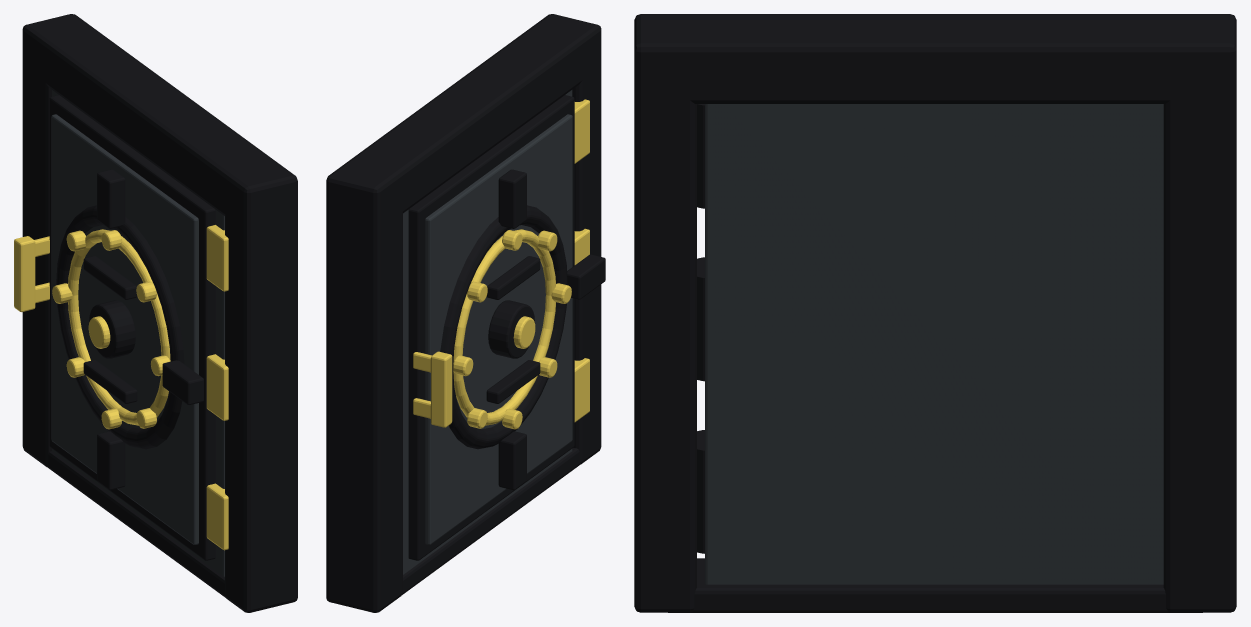
File: VaultDoor2.fbx
3 renders of one model, left to right at view 1: azimuth 30°, elevation 25°; view 2: azimuth 150°, elevation 25°; view 3: azimuth 270°, elevation 25°, orthographic. The views are drawn at different scales.
Parts seen in each view (by area): view 1: VaultDoor_Hinge_Plate_00, VaultDoor_Frame_Left, VaultDoor_Frame_Top, VaultDoor_Frame_Right, VaultDoor_Threshold; view 2: VaultDoor_Hinge_Plate_00, VaultDoor_Frame_Right, VaultDoor_Frame_Top, VaultDoor_Frame_Left, VaultDoor_Threshold; view 3: VaultDoor_Hinge_Plate_00, VaultDoor_Frame_Top, VaultDoor_Frame_Right, VaultDoor_Frame_Left, VaultDoor_Threshold, VaultDoor_Hinge_01, VaultDoor_Hinge_00, VaultDoor_Hinge_02.
Part boxes in pixels (x1,y1,x2,y2): VaultDoor_Hinge_Plate_00: [14, 90, 228, 576]; VaultDoor_Frame_Left: [225, 202, 297, 612]; VaultDoor_Frame_Top: [22, 14, 297, 228]; VaultDoor_Frame_Right: [22, 52, 51, 467]; VaultDoor_Threshold: [48, 451, 226, 598]; VaultDoor_Hinge_Plate_00: [403, 90, 605, 574]; VaultDoor_Frame_Right: [326, 199, 402, 612]; VaultDoor_Frame_Top: [326, 14, 601, 228]; VaultDoor_Frame_Left: [572, 53, 601, 464]; VaultDoor_Threshold: [402, 447, 580, 594]; VaultDoor_Hinge_Plate_00: [705, 104, 1163, 584]; VaultDoor_Frame_Top: [634, 14, 1236, 103]; VaultDoor_Frame_Right: [1163, 80, 1236, 612]; VaultDoor_Frame_Left: [634, 80, 696, 612]; VaultDoor_Threshold: [668, 558, 1202, 612]; VaultDoor_Hinge_01: [697, 257, 704, 381]; VaultDoor_Hinge_00: [697, 430, 704, 553]; VaultDoor_Hinge_02: [697, 104, 704, 208].
Size of the model in its own units: 71.5 by 320 by 307.
